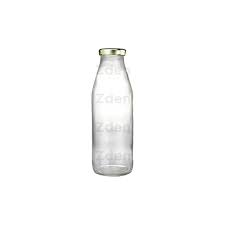bottle: (88, 45, 138, 179)
